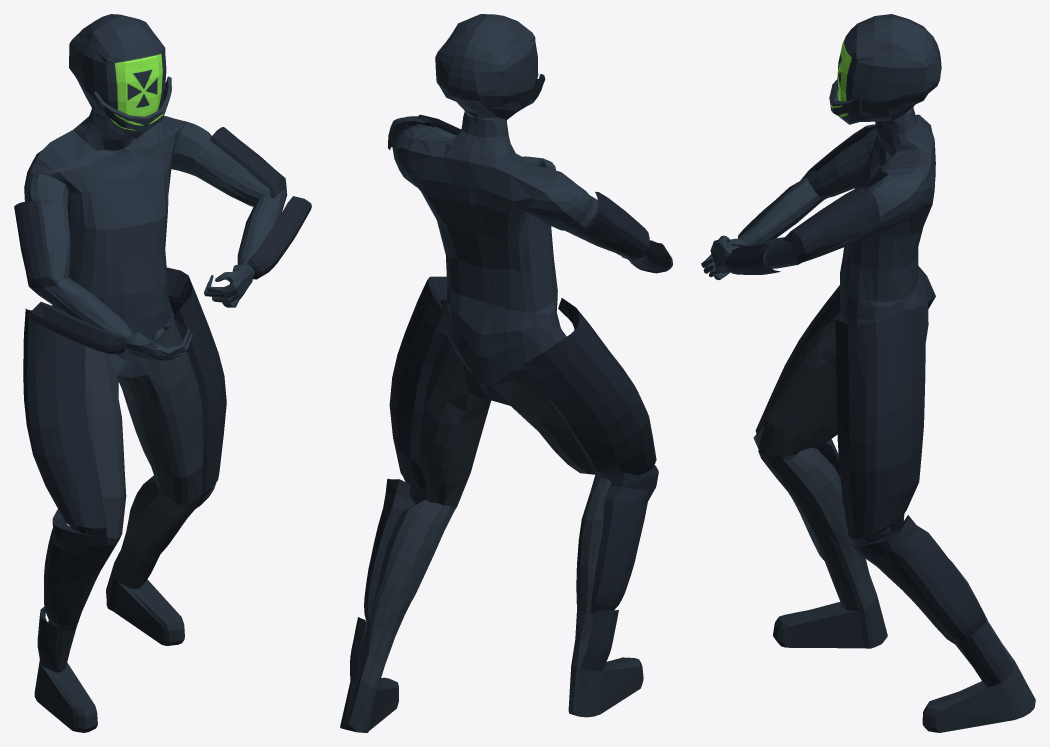
The model's file is Bastion_Hit_Recover_000012.obj.
3 renders of one model, left to right at view 1: azimuth 30°, elevation 25°; view 2: azimuth 150°, elevation 25°; view 3: azimuth 270°, elevation 25°, orthographic. The views are drawn at different scales.
Parts seen in each view (by area): view 1: Cube.002; view 2: Cube.002; view 3: Cube.002.
Part boxes in pixels (x1,y1,x2,y2): Cube.002: (14,14,311,732); Cube.002: (340,14,672,732); Cube.002: (701,14,1035,732).
Bounding box in the file's own units: 1.53 × 3.65 × 1.64.
